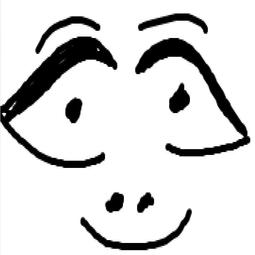eye: (0, 34, 121, 170), (134, 36, 251, 160)
eyebrow: (34, 14, 102, 58), (134, 11, 209, 35)
mouth: (78, 208, 193, 251)
nose: (104, 190, 157, 215)
